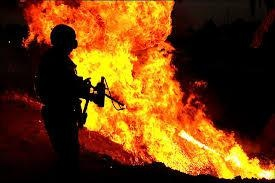fire: (72, 4, 267, 170)
